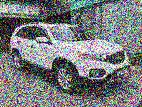car: (10, 21, 130, 94)
